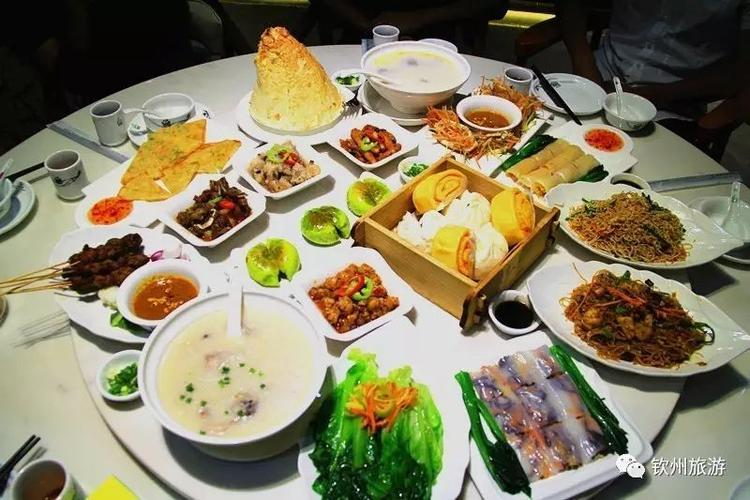food: (124, 276, 335, 462), (366, 147, 570, 299), (453, 342, 632, 494), (532, 256, 718, 375), (308, 340, 448, 494), (548, 174, 722, 267), (236, 20, 357, 136), (9, 228, 179, 308), (111, 117, 241, 199), (302, 247, 404, 336), (499, 133, 612, 202), (166, 170, 258, 247), (116, 250, 204, 327), (242, 132, 323, 196), (332, 113, 407, 169), (243, 231, 301, 287), (99, 344, 144, 407), (344, 167, 392, 217)
